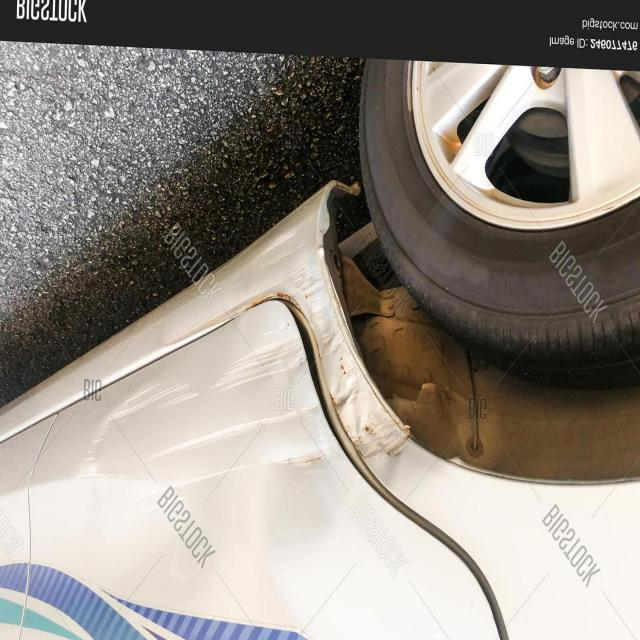dent: (265, 270, 438, 507)
